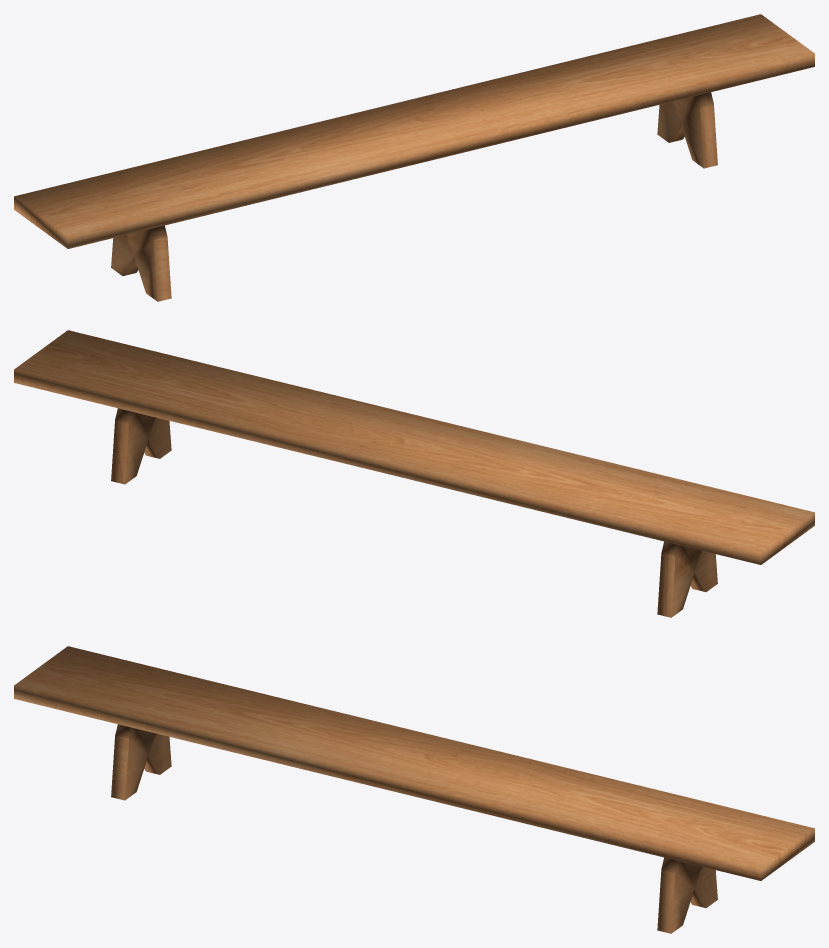
The model's file is bench.fbx.
3 views of the same model, one above another, from view 1: azimuth 30°, elevation 25°; view 2: azimuth 150°, elevation 25°; view 3: azimuth 330°, elevation 25° (orthographic).
Parts seen in each view (by area): view 1: Cube_007; view 2: Cube_007; view 3: Cube_007.
Boxes of the visible parts, bbox=[...] form: Cube_007: bbox=[14, 14, 814, 301]; Cube_007: bbox=[14, 330, 814, 617]; Cube_007: bbox=[14, 646, 814, 933].
Bounding box in the file's own units: 4.75 × 0.556 × 0.594.
